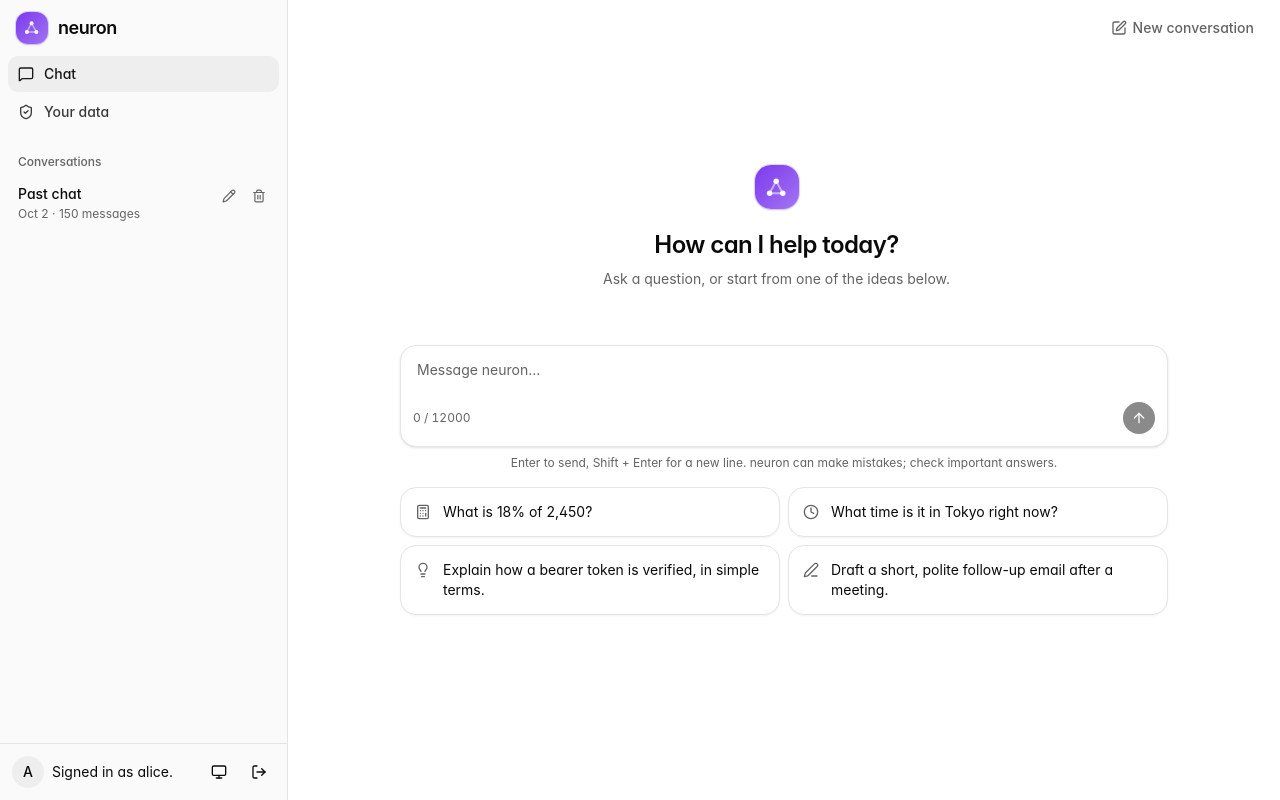
it: opening a conversation › shows only the latest page of a long conversation, and says so
The width and height of the screenshot is (1280, 800).
Click the button with aria-label "Open Past chat".
click(50, 194)  # box [8, 176, 279, 230]
(page scrolled)
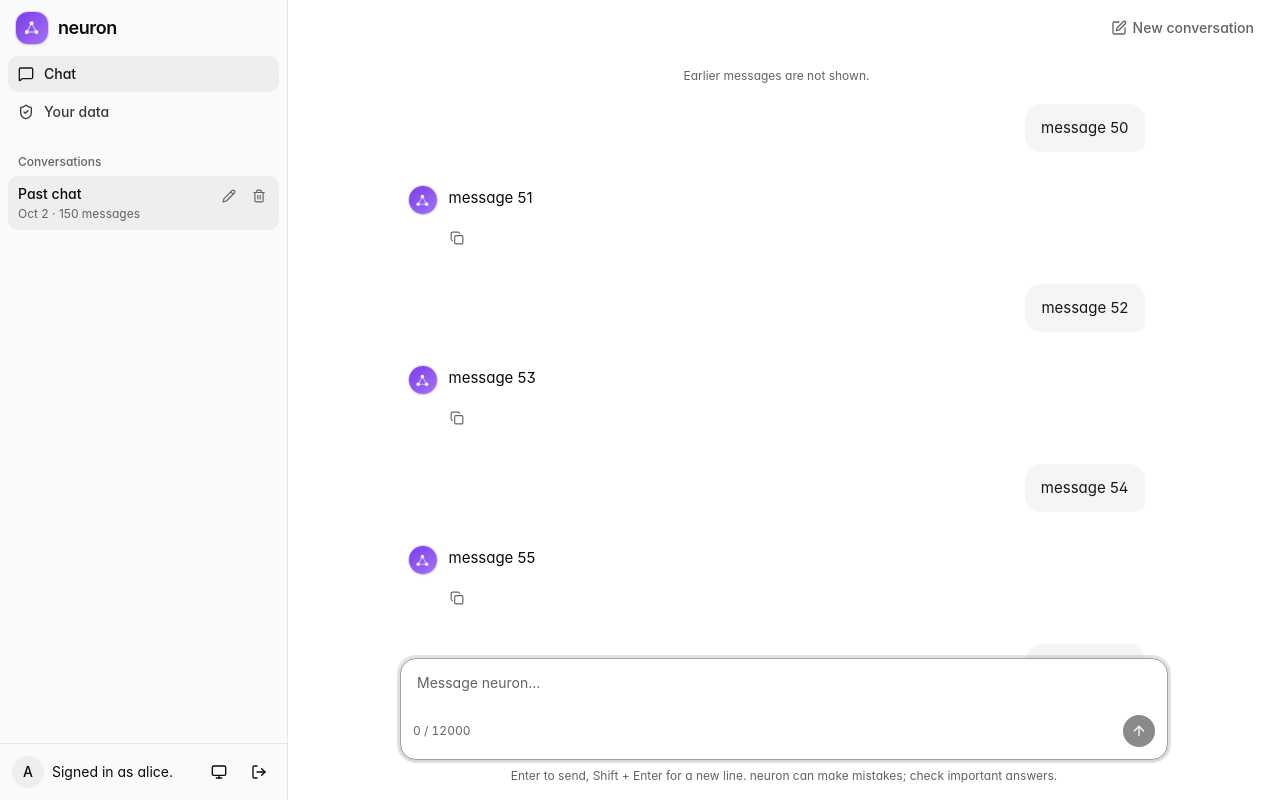
Expected: the text "message 50" is shown, [1041, 114, 1128, 142]
Expected: the text "Earlier messages are not shown." is shown, [684, 68, 870, 83]
